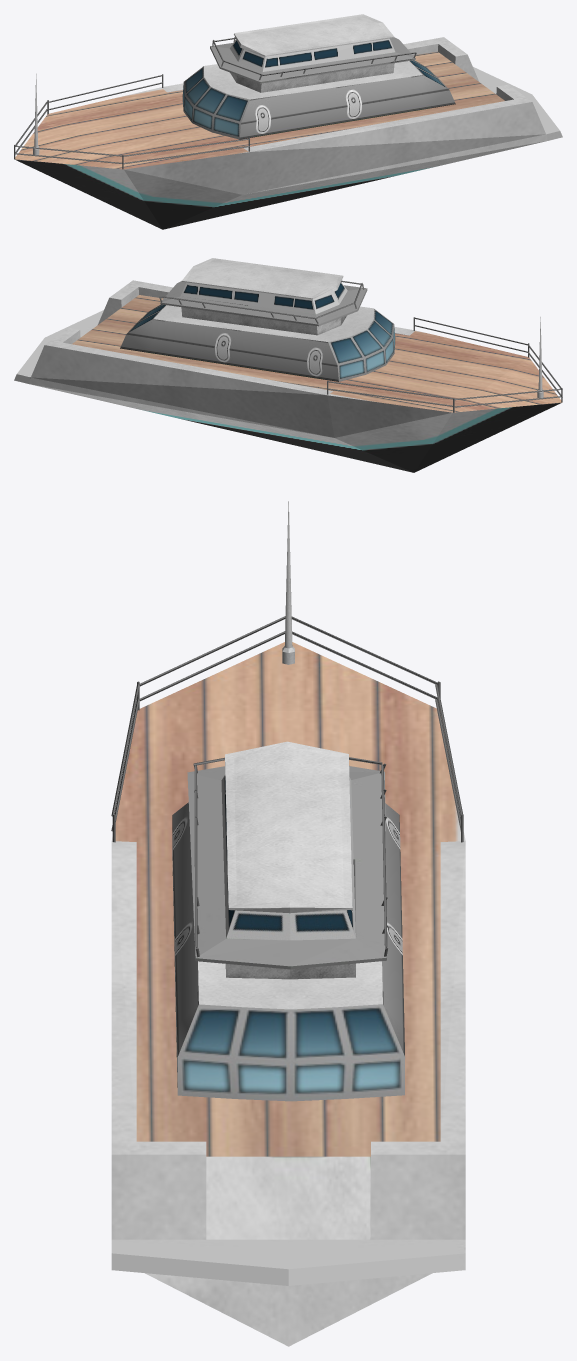
The picture shows the model from 3 angles, top to bottom: view 1: azimuth 30°, elevation 25°; view 2: azimuth 150°, elevation 25°; view 3: azimuth 270°, elevation 25°; orthographic projection. The views are drawn at different scales.
Visible parts, largest first — view 1: base_16; view 2: base_16; view 3: base_16.
Part boxes in pixels (x1,y1,x2,y2): base_16: (14,14,562,229); base_16: (14,258,562,472); base_16: (111,501,465,1346).
Size of the model in its own units: 29.35 by 10.07 by 8.65.
